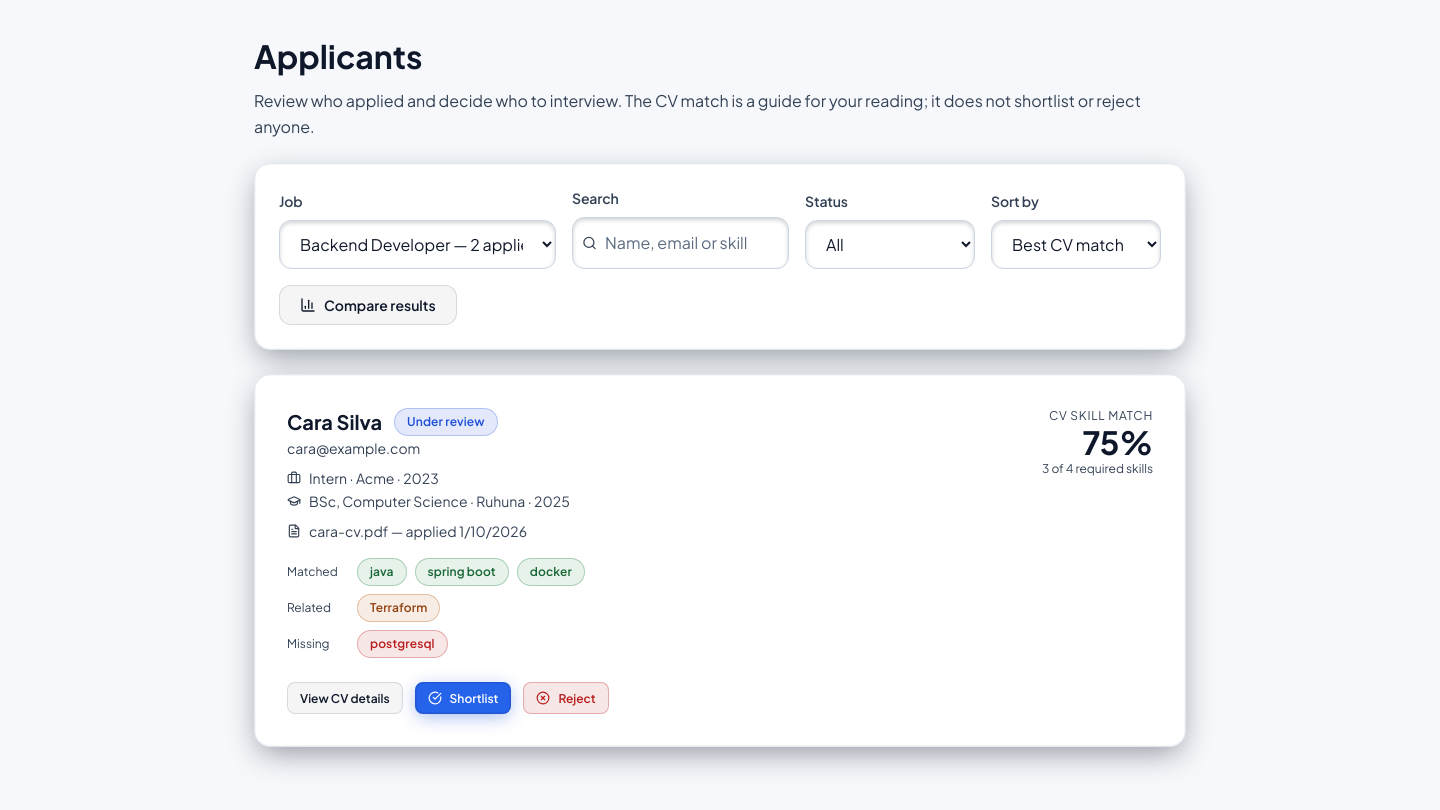
Test: shortlisting asks for confirmation before anything is sent
The image size is (1440, 810).
Step 1. Click the button "Shortlist" → (463, 698), box [415, 682, 511, 714]
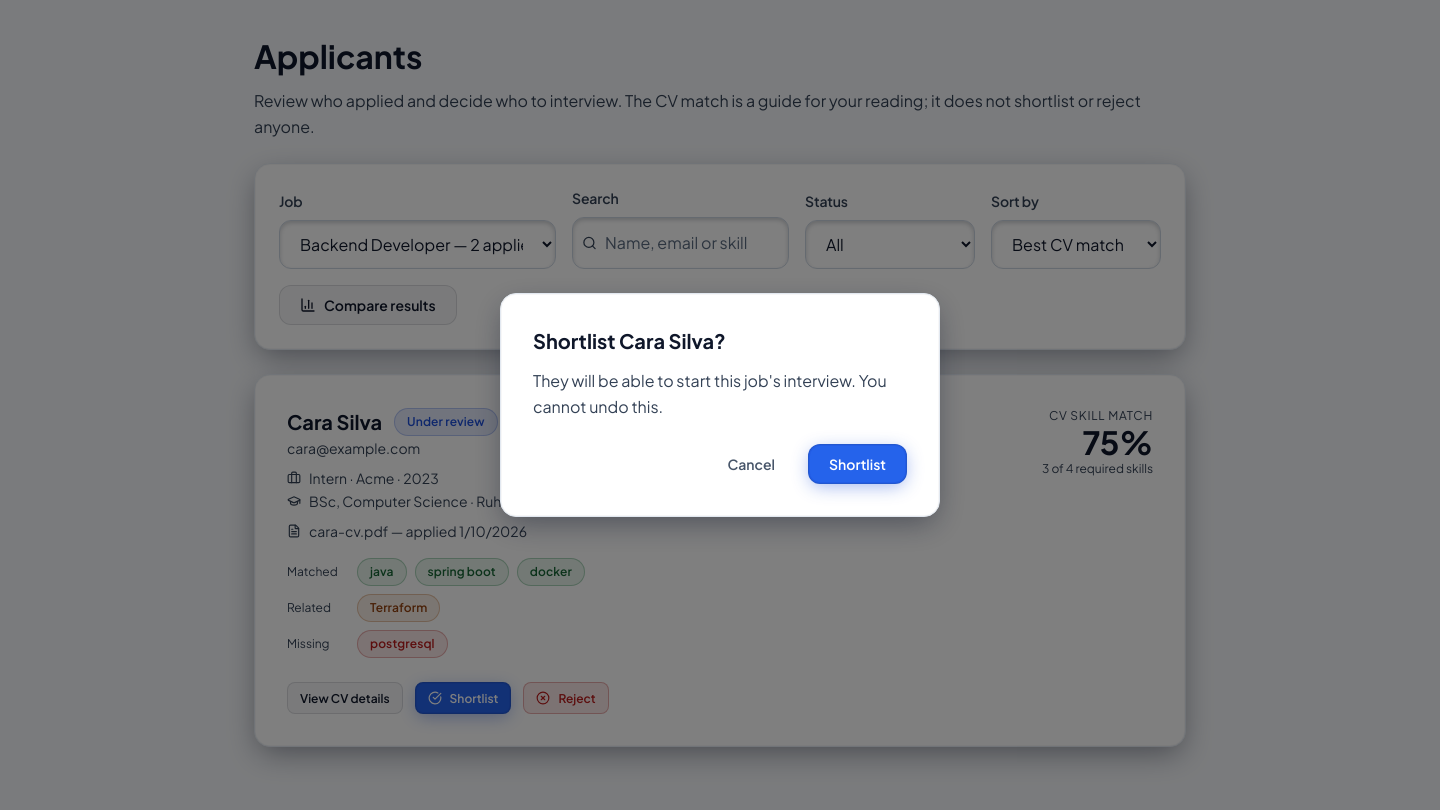
Check: the dialog is shown
Check: the text "Shortlist Cara Silva?" is shown, box [533, 328, 726, 353]
